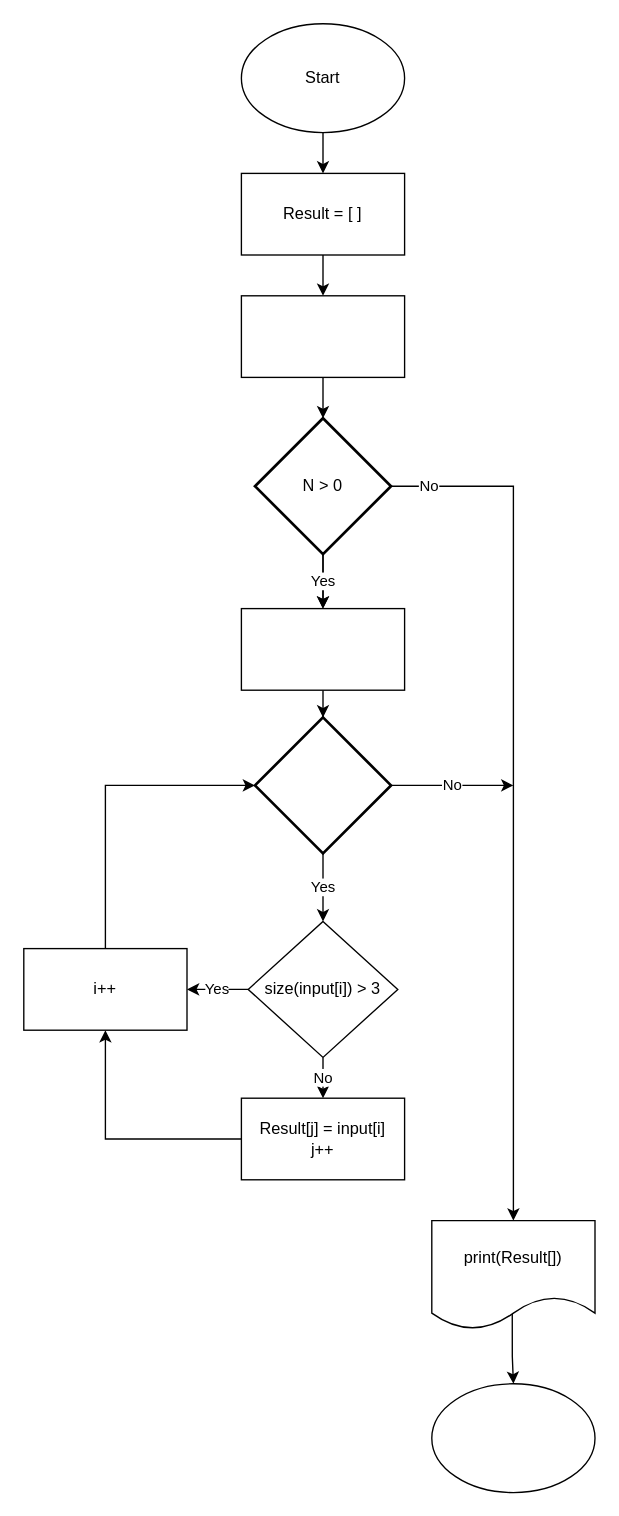
The diagram is 619 pixels wide and 1516 high, and some of its shapes have lost their labels. Each missing label, with the box of its shape:
End: (430, 1382, 595, 1493)
i < N: (253, 715, 392, 854)
i = 0 j = 0: (240, 607, 405, 690)
N = size(input[]): (240, 294, 405, 377)
